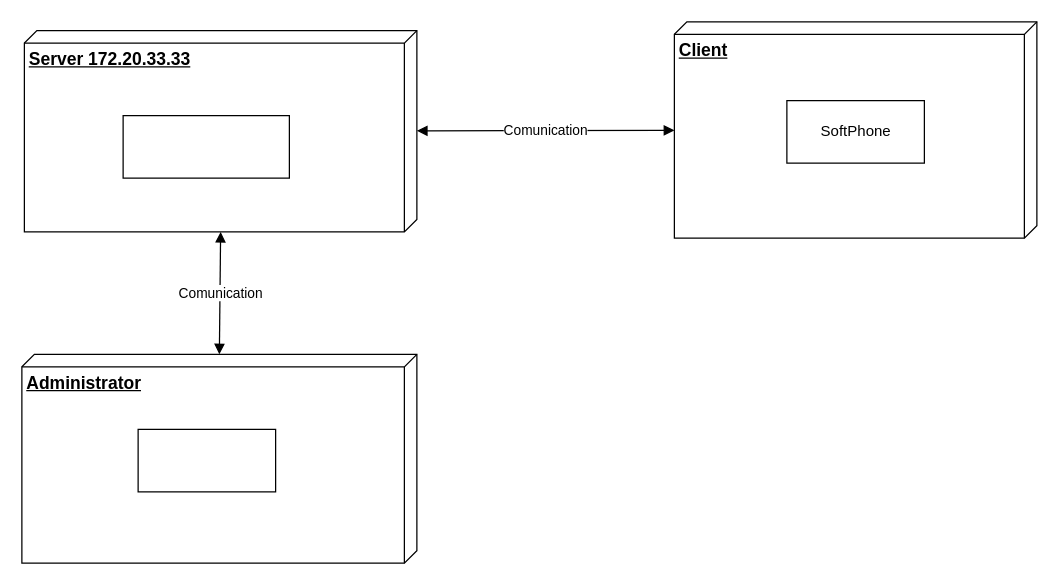
This 1059x585 diagram has some shape labels left out. The shapes that lost their labels are listed below. From the top down, each one's centre as x and y in pixels, then its label:
[205,146]: Elastix 4.0.0 CentOS 7
[206,460]: Web Browser
